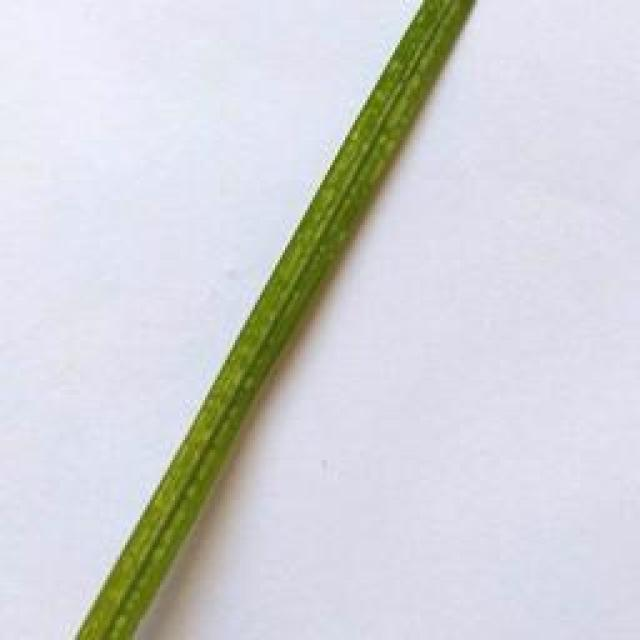Healthy-Plant: (74, 0, 476, 640)
